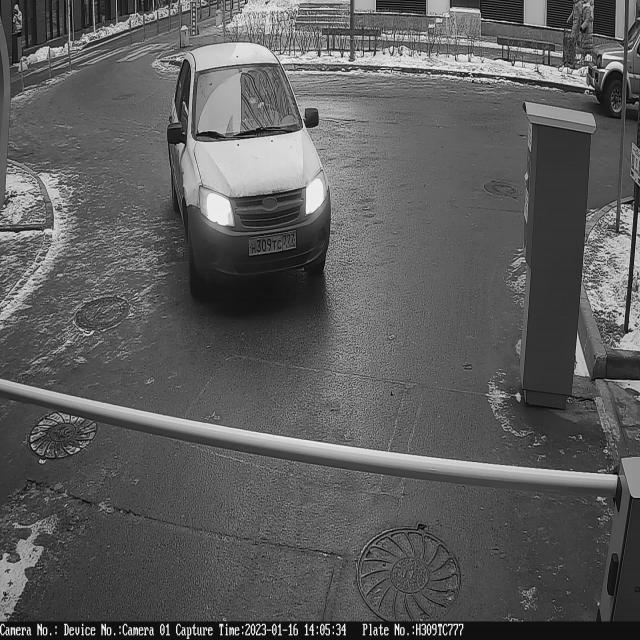car-plate-numbers: (248, 229, 299, 264)
